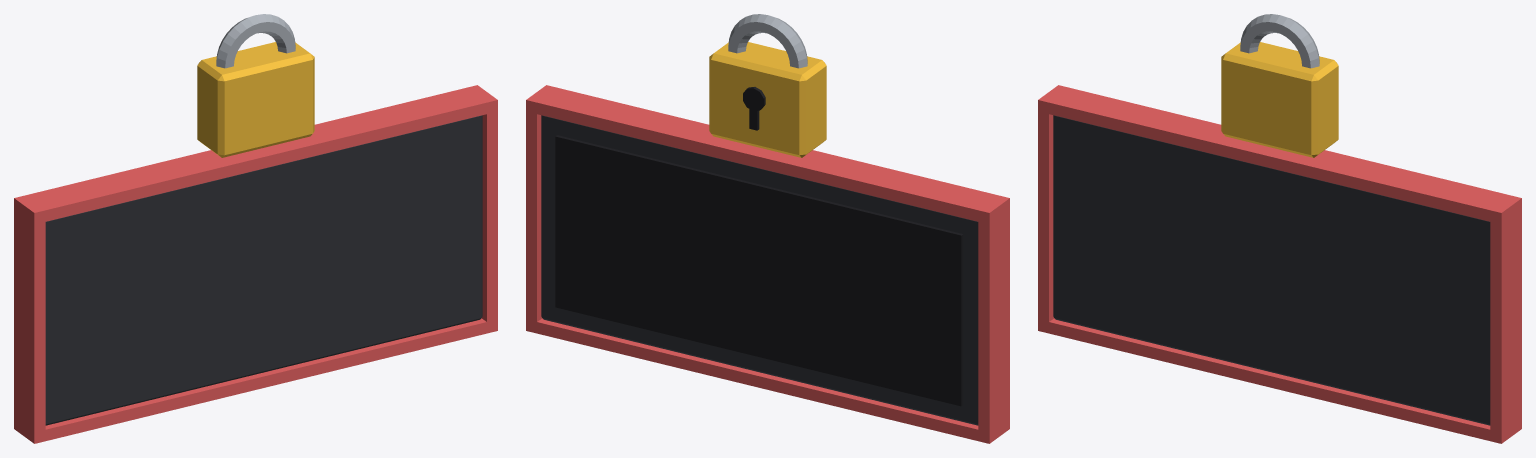
Rendered from PricePlaque.fbx.
3 views of the same model, side by side, from view 1: azimuth 30°, elevation 25°; view 2: azimuth 150°, elevation 25°; view 3: azimuth 330°, elevation 25° (orthographic).
Visible parts, largest first — view 1: PricePlaque_Charcoal, PricePlaque_Accent, PricePlaque_Gold, PricePlaque_Metal; view 2: PricePlaque_Black, PricePlaque_Accent, PricePlaque_Charcoal, PricePlaque_Gold, PricePlaque_Metal; view 3: PricePlaque_Charcoal, PricePlaque_Accent, PricePlaque_Gold, PricePlaque_Metal.
Part boxes in pixels (box(x1,y1,x2,y2)): PricePlaque_Charcoal: box(45, 115, 482, 425); PricePlaque_Accent: box(14, 85, 497, 443); PricePlaque_Gold: box(197, 42, 314, 157); PricePlaque_Metal: box(216, 14, 295, 68); PricePlaque_Black: box(555, 87, 963, 406); PricePlaque_Accent: box(526, 85, 1009, 443); PricePlaque_Charcoal: box(541, 115, 978, 425); PricePlaque_Gold: box(709, 42, 826, 157); PricePlaque_Metal: box(728, 14, 807, 68); PricePlaque_Charcoal: box(1053, 115, 1490, 425); PricePlaque_Accent: box(1038, 85, 1521, 443); PricePlaque_Gold: box(1221, 42, 1338, 157); PricePlaque_Metal: box(1240, 14, 1319, 68).
Bounding box in the file's own units: 21 × 15.8 × 2.15.
